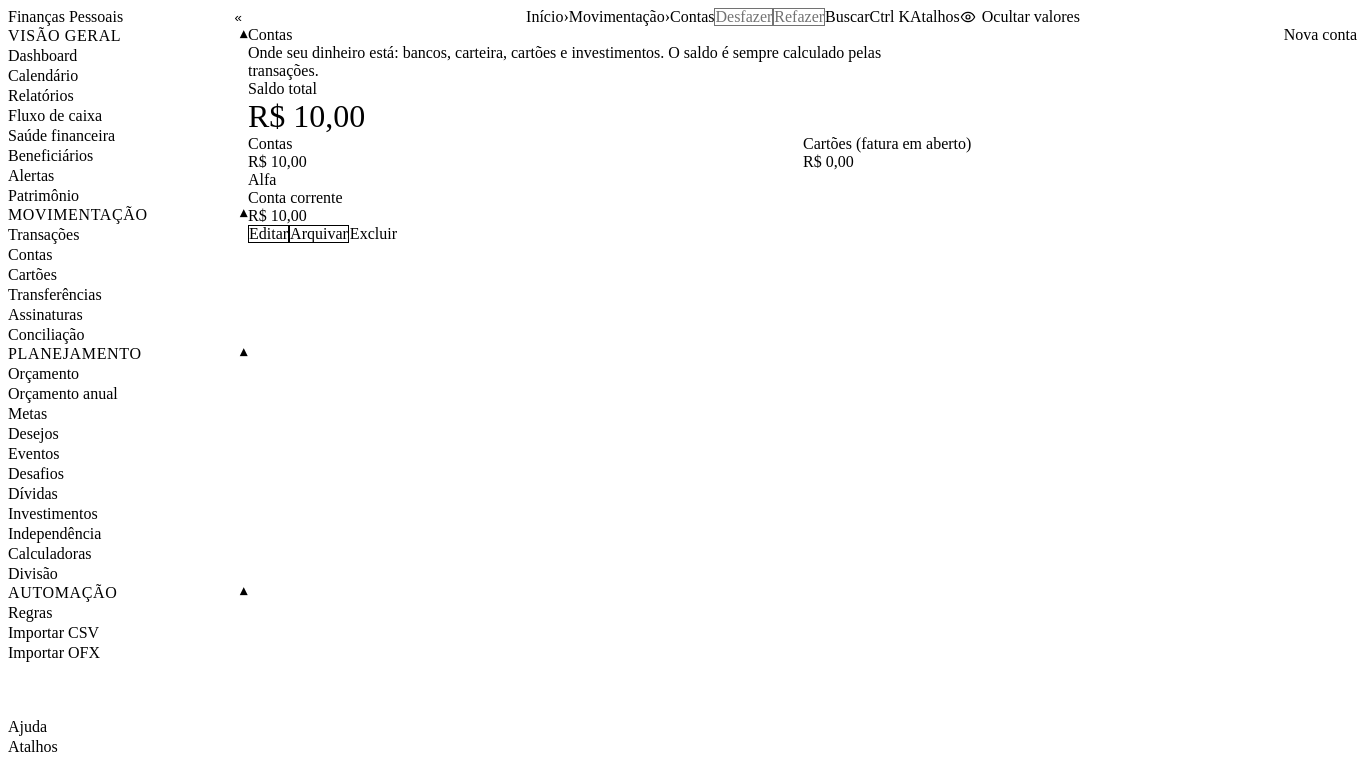
Test: contas: tela › critério 6: edita a conta pela tela
Click the button with aria-label "Editar Alfa" at (269, 234), box [248,225,289,243]
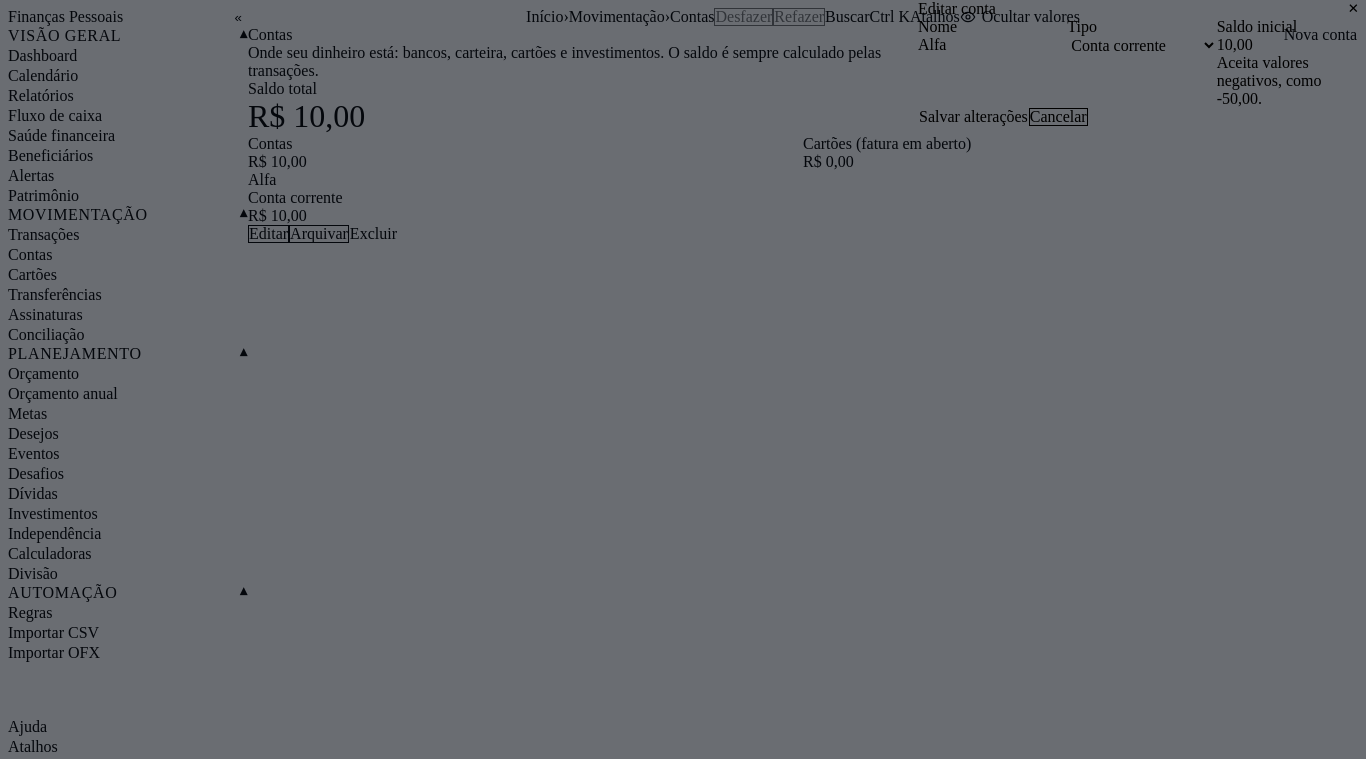
Replace the text in the field labelled "Nome" with "Omega" at (993, 45), box [918,36,1067,54]
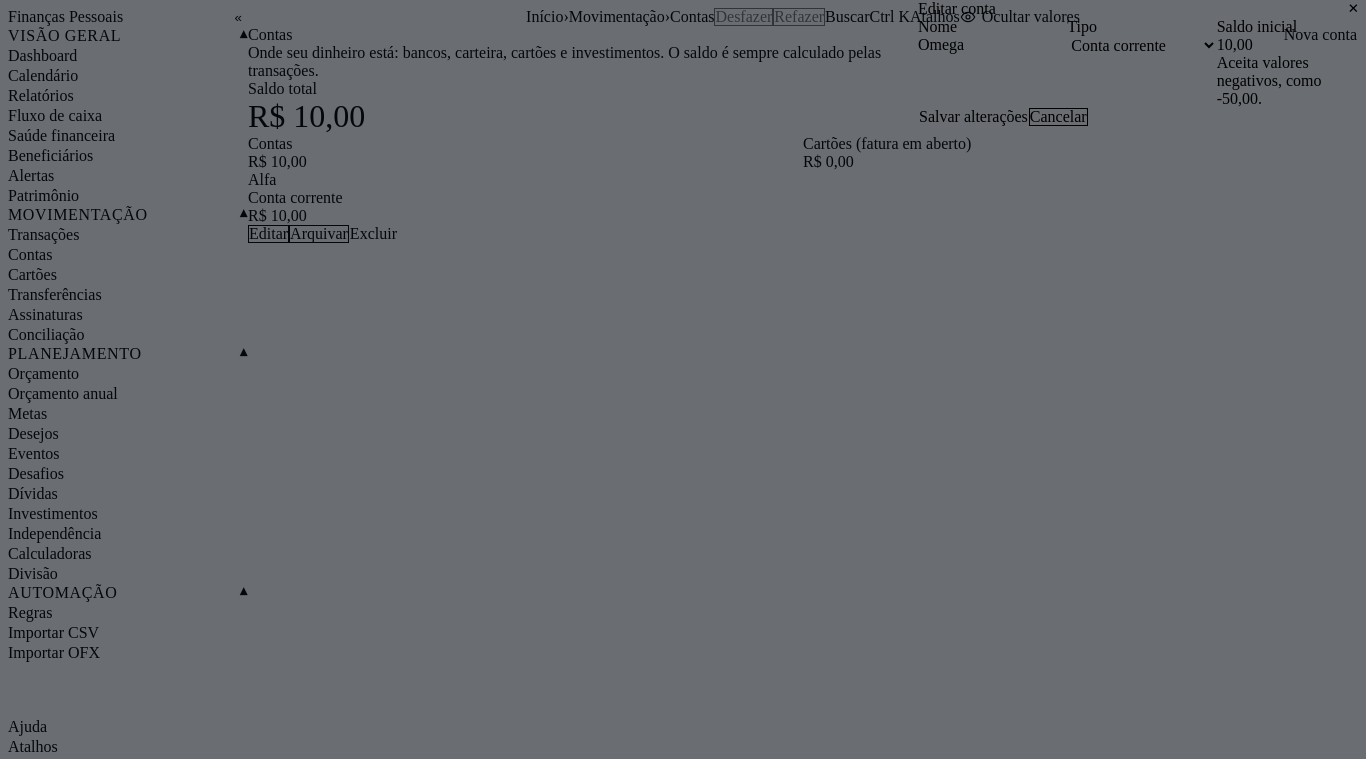
Click the button "Salvar alterações" at (973, 117), box [918,108,1029,126]
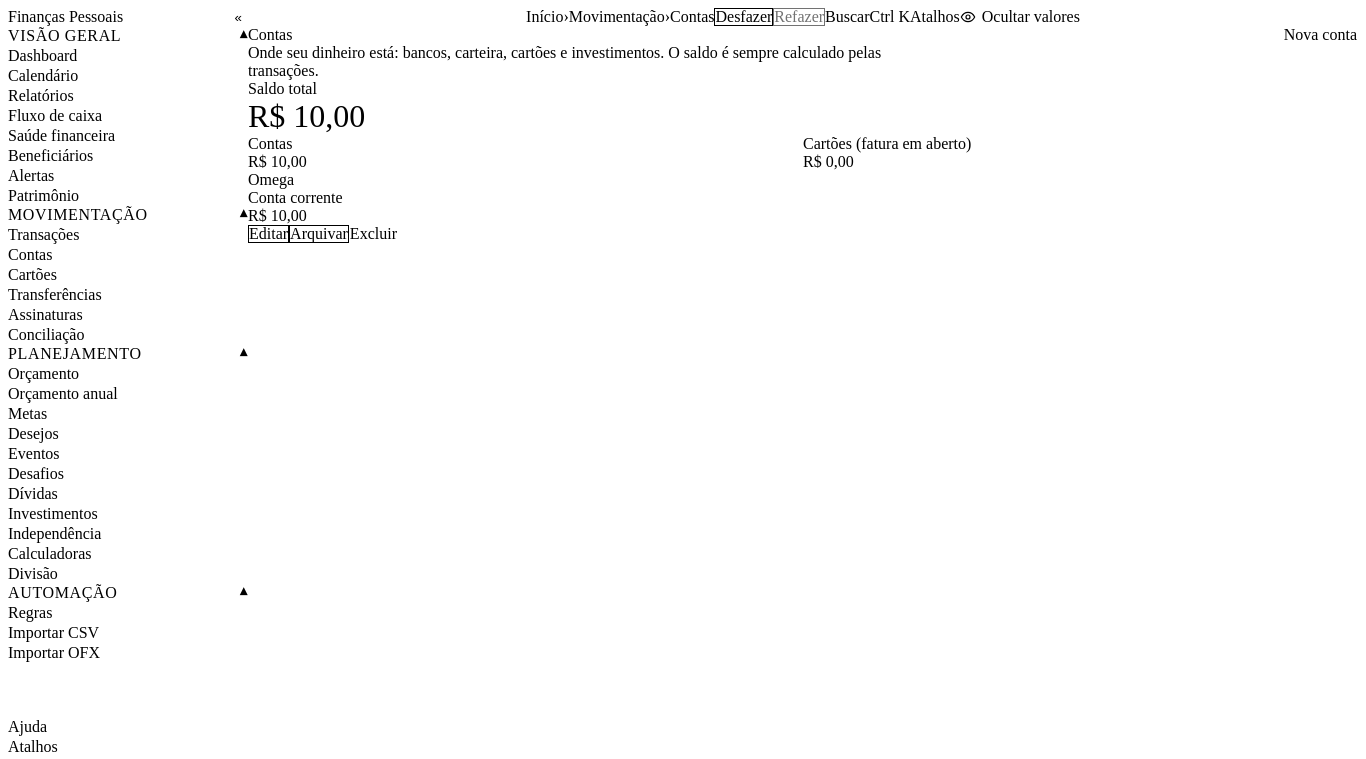
Check: the text "Omega" is shown, box [248,171,294,188]
